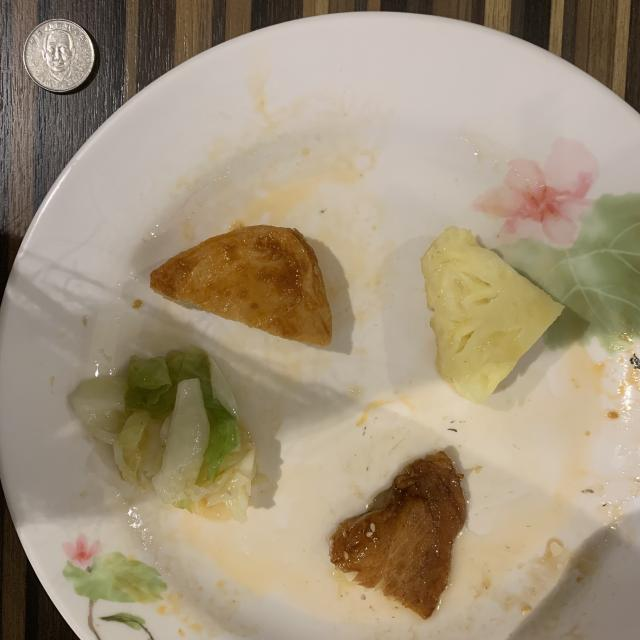Kabayaki sea bream fillet: (330, 451, 466, 619)
cabbage: (70, 345, 256, 521)
coin: (22, 19, 95, 92)
creamy tofu: (150, 225, 331, 346)
pineapple: (421, 226, 562, 404)
